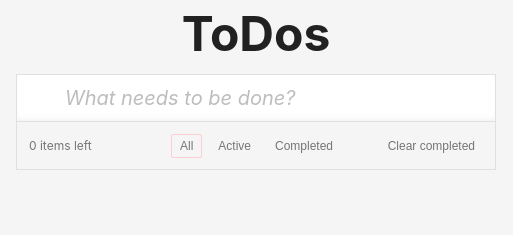
it: App's new todo input › creates a todo without surrounding whitespace
Type "  New task " into the field with placeholder "What needs to be done?" at (256, 98), box [16,74,496,122]
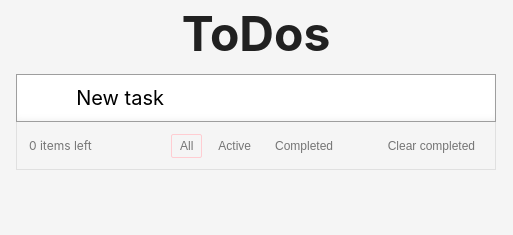
Press Enter
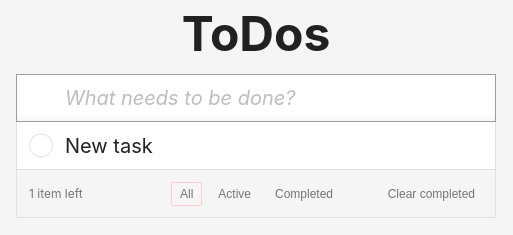
expect the list item reads "New task": met, box [65,134,153,158]
